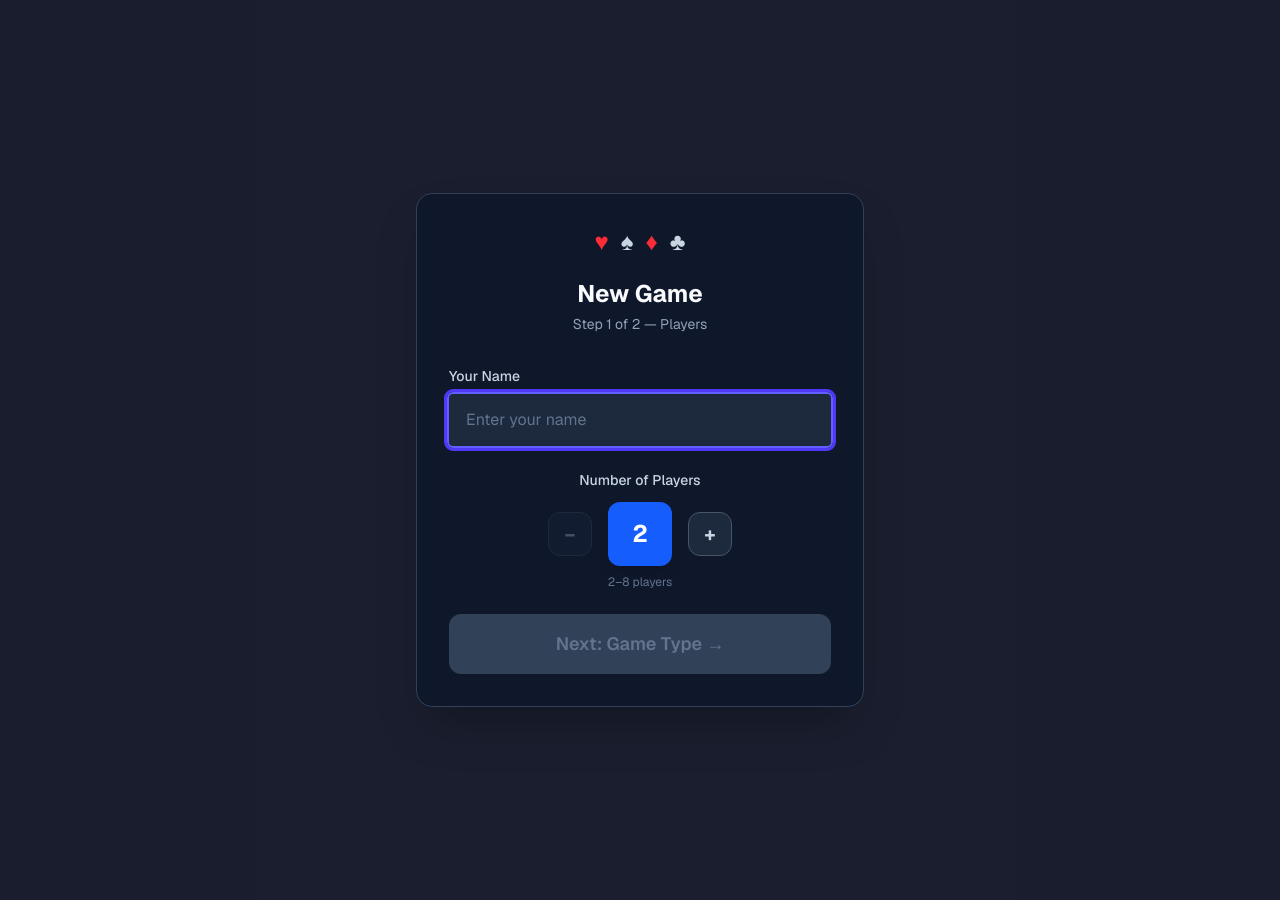
Scenario: SetupPhase — step 2 (round config) + submit › shows start game button on step 2
The image size is (1280, 900).
Type "Alice" into the field with test id "player-name-input" at (640, 420), box x1=449 y1=394 x2=831 y2=446
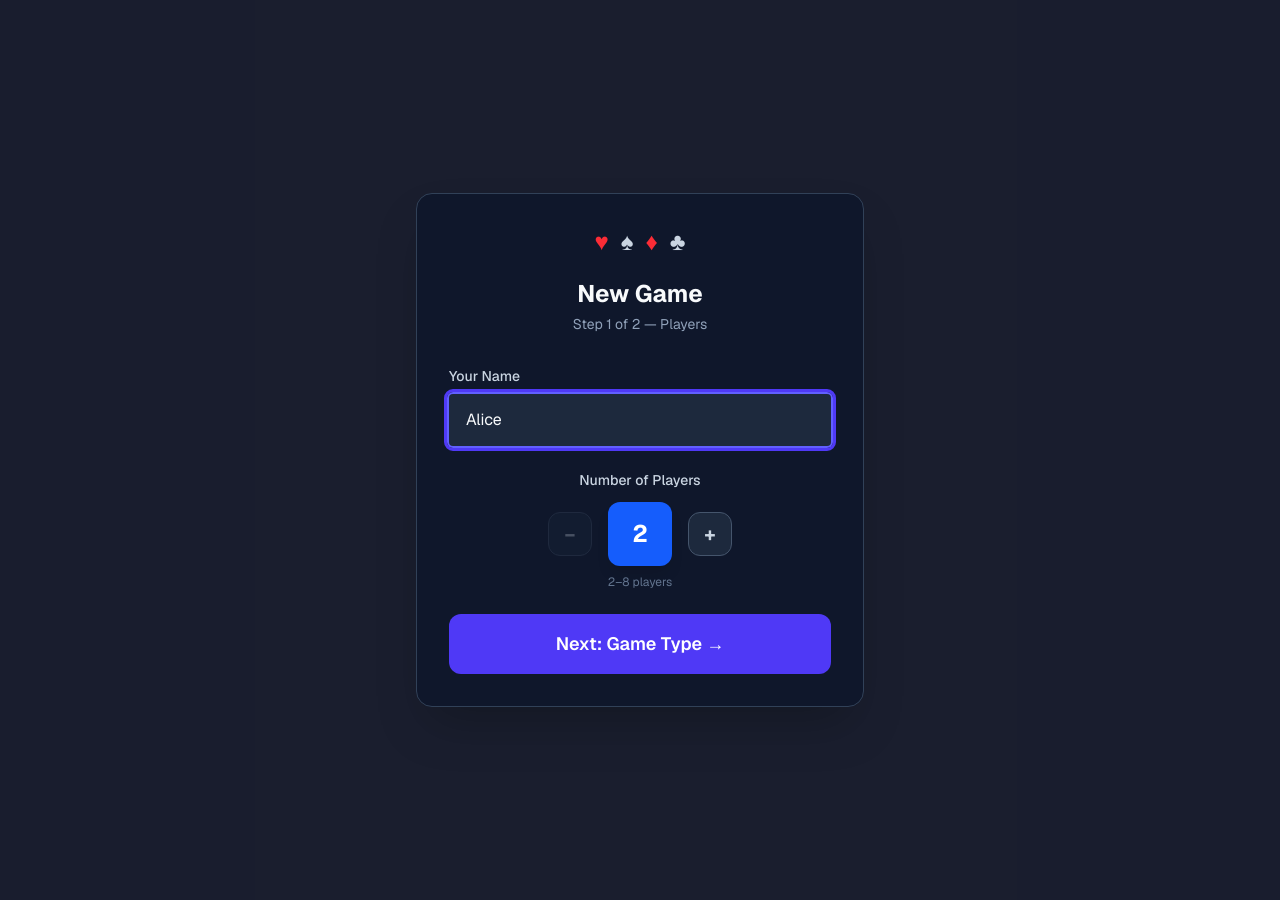
Click the button "Next: Game Type →" at (640, 644), box x1=449 y1=614 x2=831 y2=674
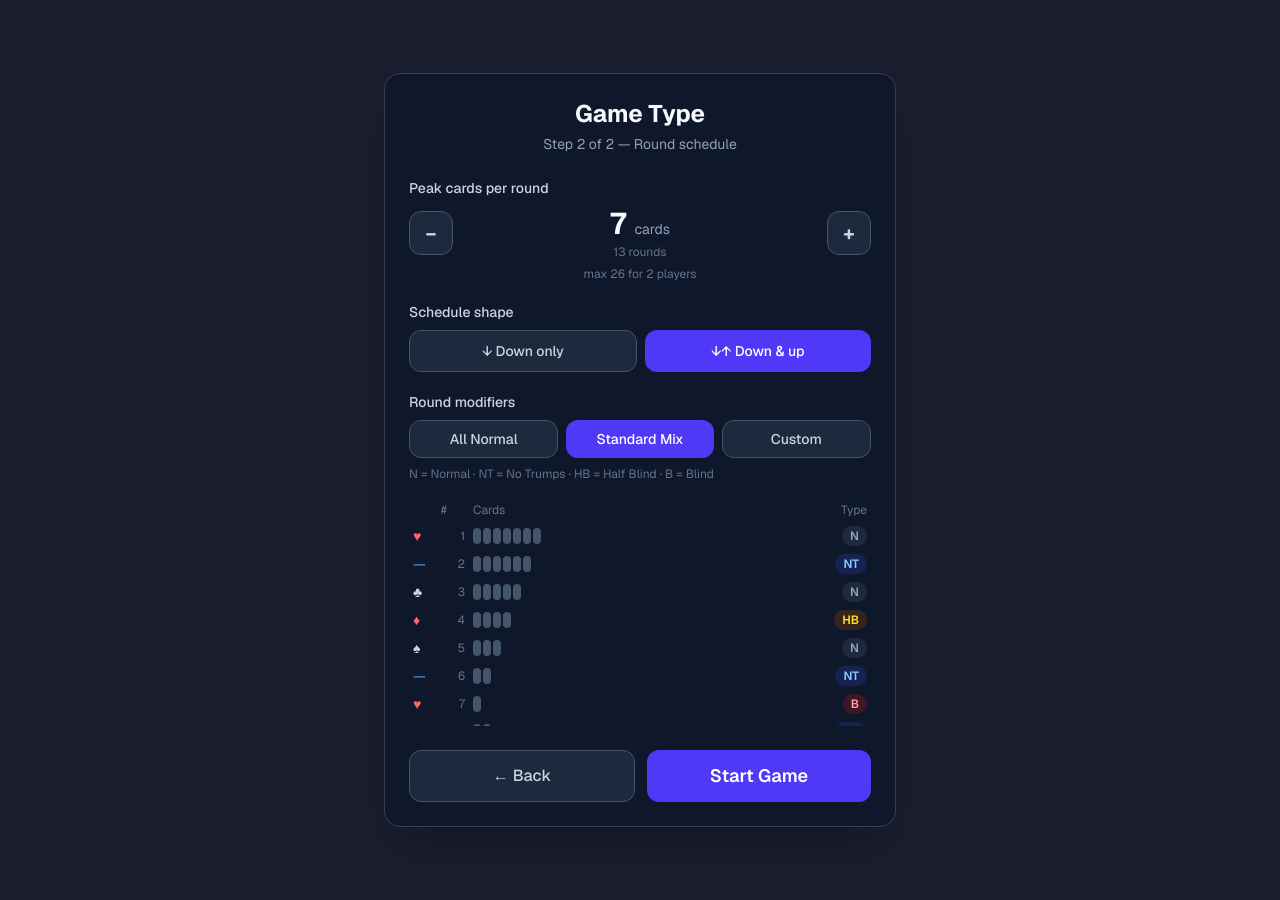
Result: the button with test id "start-game-button" is shown at x1=647 y1=750 x2=871 y2=802
